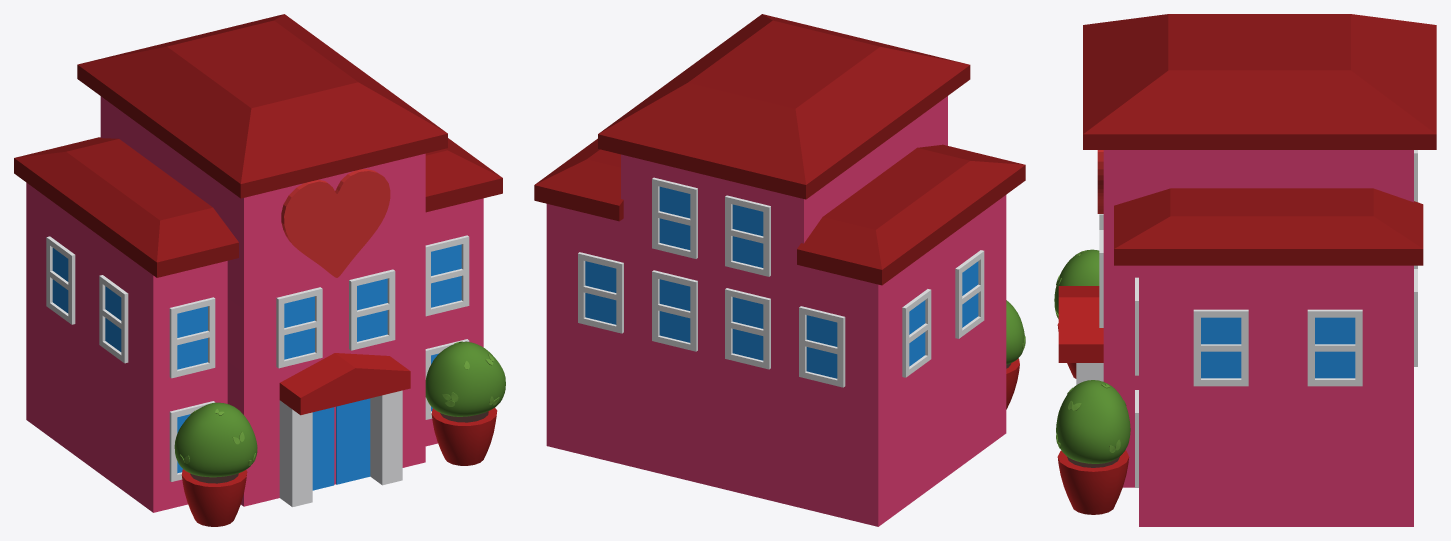
Rendered from love_hotel.fbx.
3 views of the same model, side by side, from view 1: azimuth 30°, elevation 25°; view 2: azimuth 150°, elevation 25°; view 3: azimuth 270°, elevation 25° (orthographic). The views are drawn at different scales.
Parts seen in each view (by area): view 1: Cube.492; view 2: Cube.492; view 3: Cube.492.
Boxes of the visible parts, left/top/right/bottom form: Cube.492: left=14, top=14, right=505, bottom=526; Cube.492: left=534, top=14, right=1025, bottom=526; Cube.492: left=1054, top=14, right=1436, bottom=526.
Size of the model in its own units: 202 by 207 by 179.
1 material, 1 textured.
